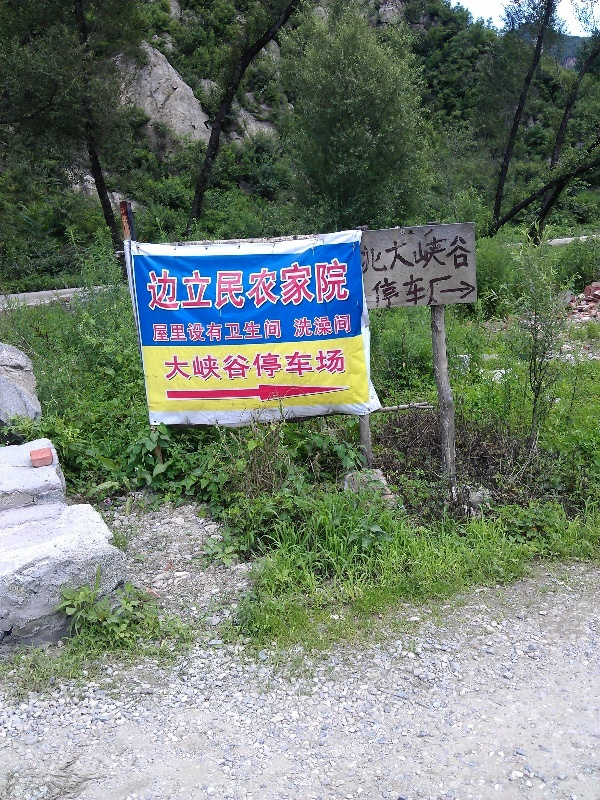text: (145, 256, 160, 316), (161, 256, 176, 316), (177, 256, 192, 316), (193, 256, 208, 316), (209, 256, 224, 316), (225, 256, 240, 316), (241, 256, 256, 316), (257, 256, 272, 316), (273, 256, 288, 316), (289, 256, 304, 316), (305, 256, 320, 316), (321, 256, 336, 316), (337, 256, 351, 316), (369, 231, 384, 276), (385, 231, 400, 276), (401, 231, 416, 276), (417, 231, 432, 276), (433, 231, 448, 276), (449, 231, 464, 276), (385, 268, 400, 310), (401, 268, 416, 310), (417, 268, 432, 310), (433, 268, 448, 310), (449, 268, 464, 310), (370, 268, 384, 310), (465, 268, 479, 310), (177, 348, 192, 384), (193, 348, 208, 384), (209, 348, 224, 384), (225, 348, 240, 384), (241, 348, 256, 384), (257, 348, 272, 384), (273, 348, 288, 384), (289, 348, 304, 384), (305, 348, 320, 384), (321, 348, 336, 384), (163, 348, 176, 384), (358, 231, 368, 276), (161, 318, 176, 345), (177, 318, 192, 345), (193, 318, 208, 345), (209, 318, 224, 345), (225, 318, 240, 345), (241, 318, 256, 345), (257, 318, 272, 345), (465, 231, 474, 276), (337, 348, 348, 384), (305, 313, 320, 339), (321, 313, 336, 339), (337, 313, 352, 339), (292, 313, 304, 339), (273, 318, 283, 345), (152, 318, 160, 345)
